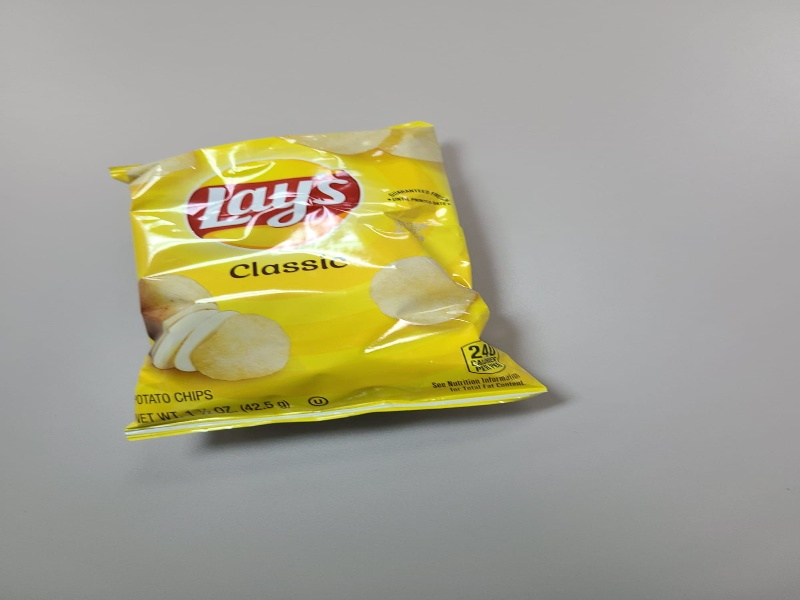lays: (98, 132, 567, 445)
